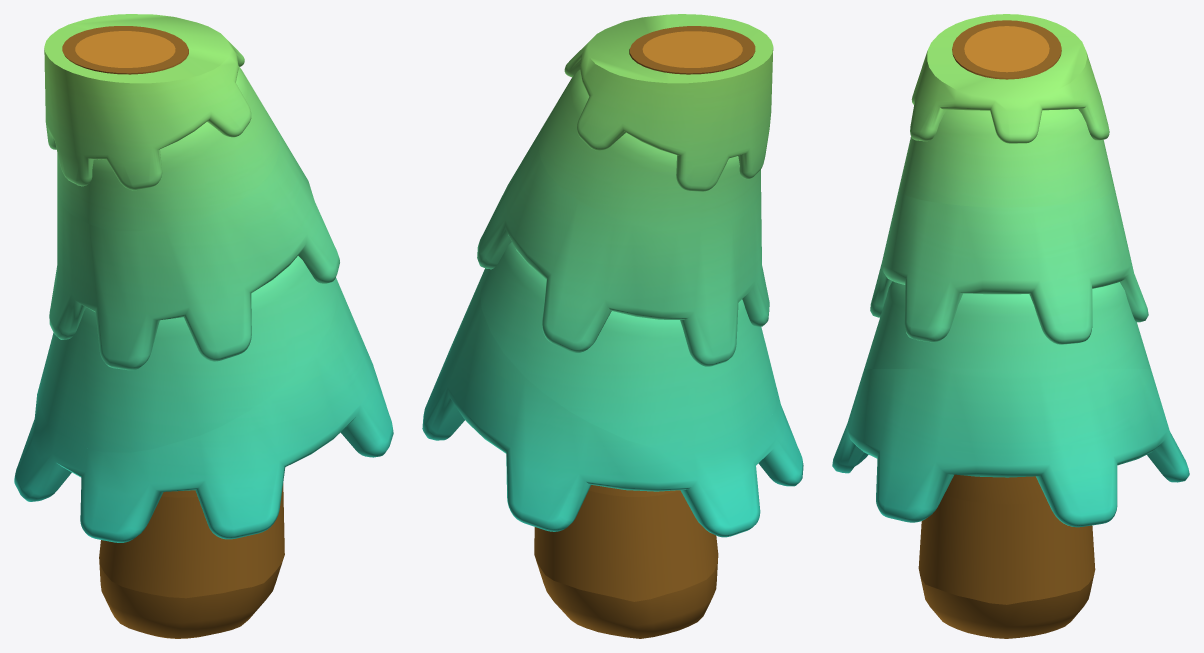
File: tree3 80%.fbx
3 views of the same model, side by side, from view 1: azimuth 30°, elevation 25°; view 2: azimuth 150°, elevation 25°; view 3: azimuth 270°, elevation 25° (orthographic). The views are drawn at different scales.
Visible parts, largest first — view 1: Cylinder.026; view 2: Cylinder.026; view 3: Cylinder.026.
Boxes of the visible parts, x1,y1,x2,y2 form: Cylinder.026: [14, 14, 393, 638]; Cylinder.026: [422, 14, 803, 638]; Cylinder.026: [832, 14, 1189, 638].
Bounding box in the file's own units: 81.72 × 145 × 85.92.
